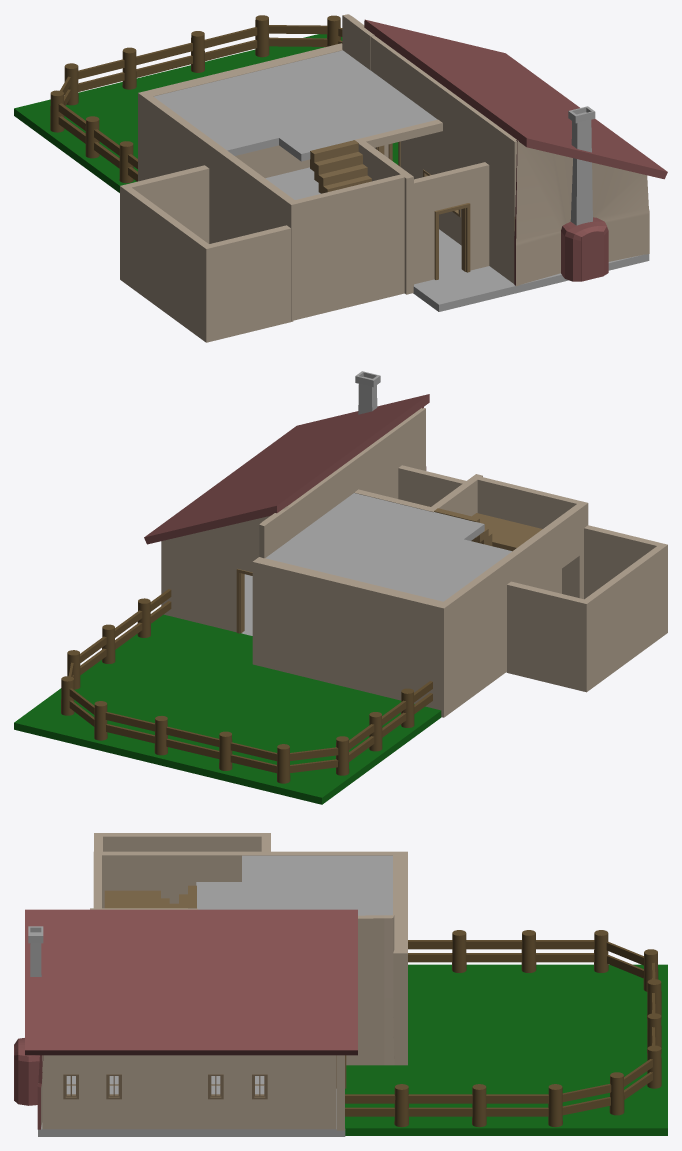
File: TheTavern.fbx
The picture shows the model from 3 angles, top to bottom: view 1: azimuth 30°, elevation 25°; view 2: azimuth 150°, elevation 25°; view 3: azimuth 270°, elevation 25°; orthographic projection. The views are drawn at different scales.
Visible parts, largest first — view 1: LobbyWall, SmallRoomWall, ndFloor, StoneOvenWall, KitchenRoof, KitchenWall02, Garden, KitchenFloor, LobbyStairs, Chimney, KitchenWall04, DoorFrame04 (+12 smaller); view 2: LobbyWall, Garden, SmallRoomWall, ndFloor, KitchenRoof, KitchenWall04, KitchenWall02, LobbyStairs, Chimney; view 3: KitchenRoof, Garden, Wall, LobbyWall, ndFloor, KitchenWall04, SmallRoomWall, KitchenFloor, StoneOvenWall, LobbyStairs, Chimney, FenceBoard (+20 smaller).
Boxes of the visible parts, x1,y1,x2,y2 form: LobbyWall: [138, 43, 489, 320]; SmallRoomWall: [120, 165, 293, 342]; ndFloor: [154, 50, 437, 161]; StoneOvenWall: [514, 140, 649, 286]; KitchenRoof: [364, 19, 667, 179]; KitchenWall02: [370, 35, 517, 283]; Garden: [14, 34, 398, 192]; KitchenFloor: [265, 167, 649, 311]; LobbyStairs: [310, 140, 371, 193]; Chimney: [568, 106, 595, 225]; KitchenWall04: [342, 14, 388, 157]; DoorFrame04: [434, 203, 470, 279]; LobbyWall: [252, 465, 588, 717]; Garden: [14, 614, 441, 804]; SmallRoomWall: [506, 525, 667, 692]; ndFloor: [265, 493, 511, 601]; KitchenRoof: [144, 394, 429, 544]; KitchenWall04: [161, 506, 290, 632]; KitchenWall02: [287, 408, 425, 538]; LobbyStairs: [434, 508, 542, 551]; Chimney: [355, 371, 380, 414]; KitchenRoof: [25, 909, 357, 1055]; Garden: [345, 964, 667, 1135]; Wall: [42, 1055, 336, 1129]; LobbyWall: [90, 851, 407, 1065]; ndFloor: [196, 855, 392, 915]; KitchenWall04: [336, 915, 394, 1130]; SmallRoomWall: [94, 833, 270, 851]; KitchenFloor: [38, 1076, 345, 1136]; StoneOvenWall: [14, 1038, 43, 1129]; LobbyStairs: [104, 885, 196, 908]; Chimney: [28, 926, 43, 976]; FenceBoard: [408, 1094, 472, 1103].
Bounding box in the file's own units: 0.6011 × 0.2248 × 0.7754.
